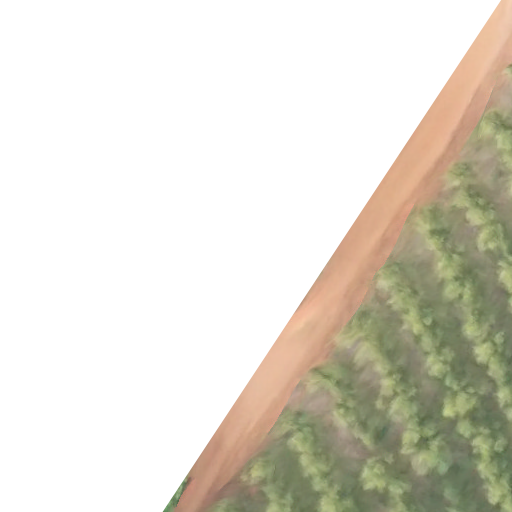eucalipto: (398, 416, 446, 456)
